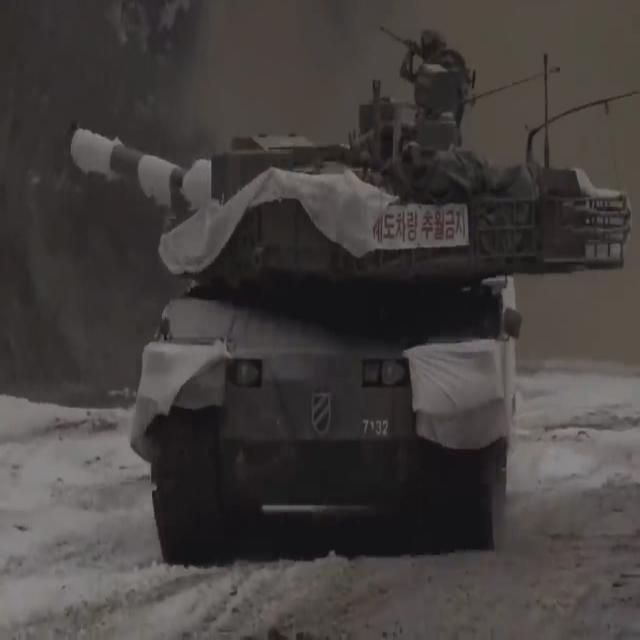korea tank: (69, 21, 631, 569)
